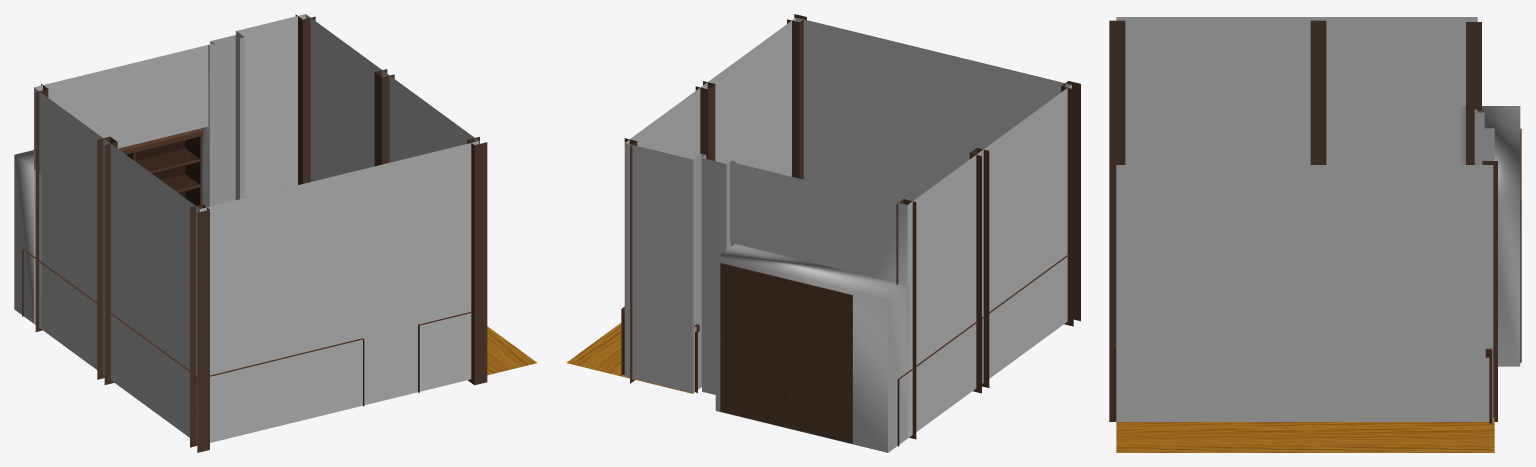
The model's file is room_complete004.fbx.
The picture shows the model from 3 angles, left to right: view 1: azimuth 30°, elevation 25°; view 2: azimuth 150°, elevation 25°; view 3: azimuth 270°, elevation 25°; orthographic projection. The views are drawn at different scales.
Parts seen in each view (by area): view 1: room.003, room.002, bookshelf_wood; view 2: room.003, room.002, bookshelf_wood; view 3: room.003, room.002, bookshelf_wood.
Part boxes in pixels (bbox=[...]): room.003: bbox=[34, 14, 479, 442]; room.002: bbox=[14, 14, 536, 452]; bookshelf_wood: bbox=[118, 129, 202, 205]; room.003: bbox=[624, 17, 1071, 438]; room.002: bbox=[566, 14, 1080, 452]; bookshelf_wood: bbox=[720, 263, 852, 443]; room.003: bbox=[1116, 17, 1493, 421]; room.002: bbox=[1109, 20, 1520, 452]; bookshelf_wood: bbox=[1520, 128, 1521, 362].
Bounding box in the file's own units: 468 × 313 × 447.
